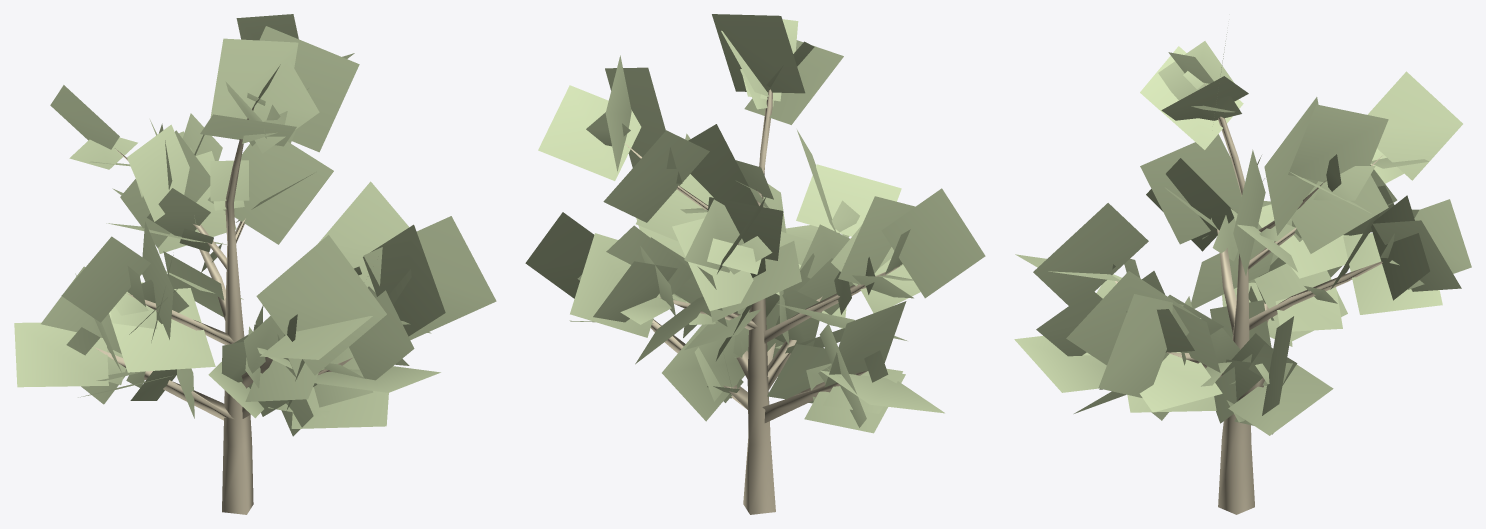
File: konara_lo.glb
3 renders of one model, left to right at view 1: azimuth 30°, elevation 25°; view 2: azimuth 150°, elevation 25°; view 3: azimuth 270°, elevation 25°, orthographic. The views are drawn at different scales.
Size of the model in its own units: 13.34 by 15 by 12.85.
